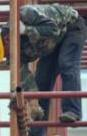boots: (58, 111, 80, 123), (29, 105, 44, 120)
hard-hat: (0, 24, 13, 62)
